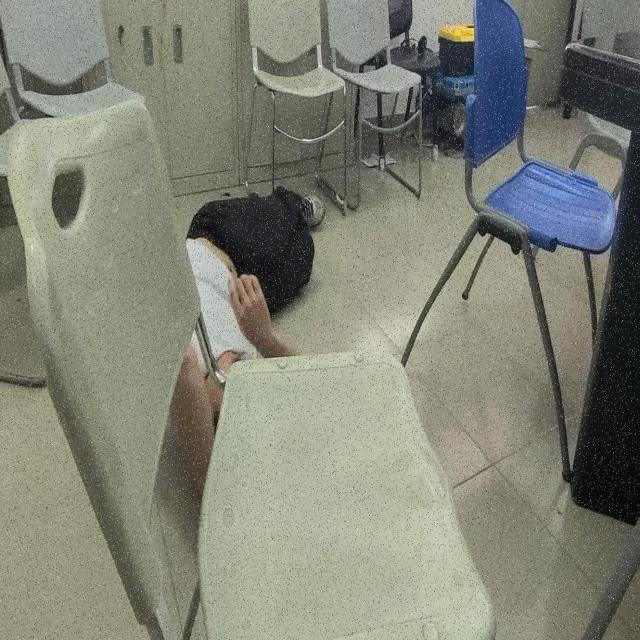fall: (176, 186, 328, 406)
